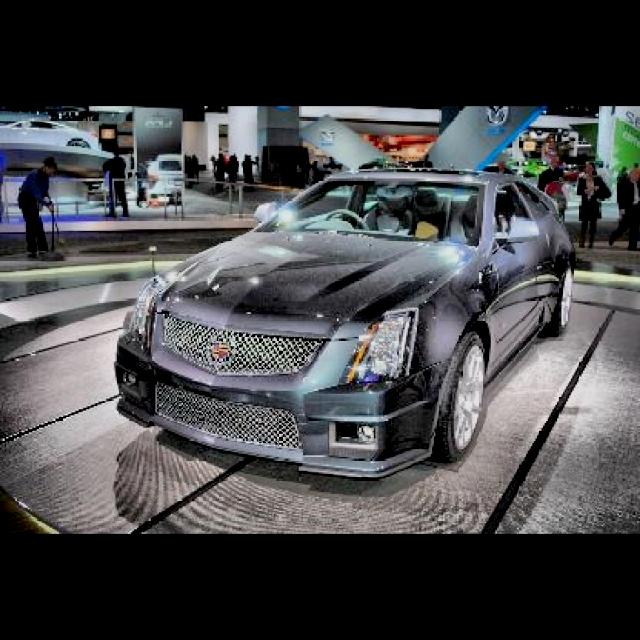black: (124, 168, 580, 458)
